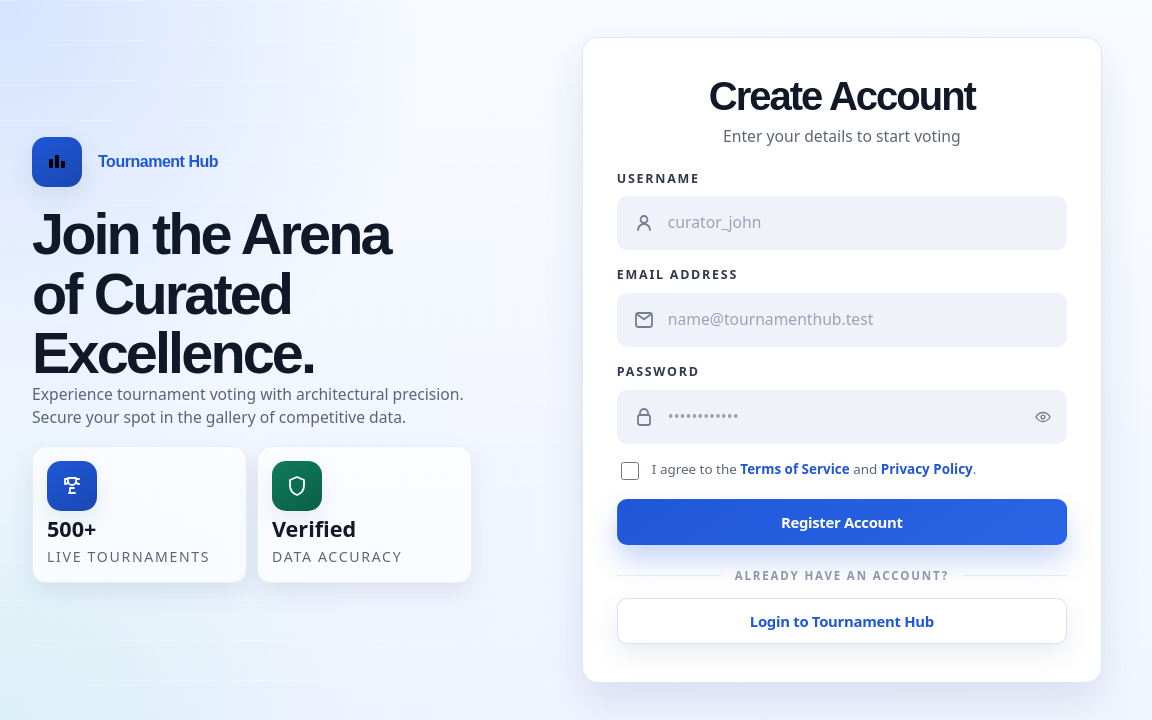
Test: RegisterPage › renders registration fields and validates them before submit
The image size is (1152, 720).
Expected: the heading "Create Account" is shown, [709, 74, 975, 118]
Expected: the field labelled "Email Address" is shown, [668, 308, 1040, 332]
Click the button "Register Account": (842, 522) [617, 499, 1067, 545]
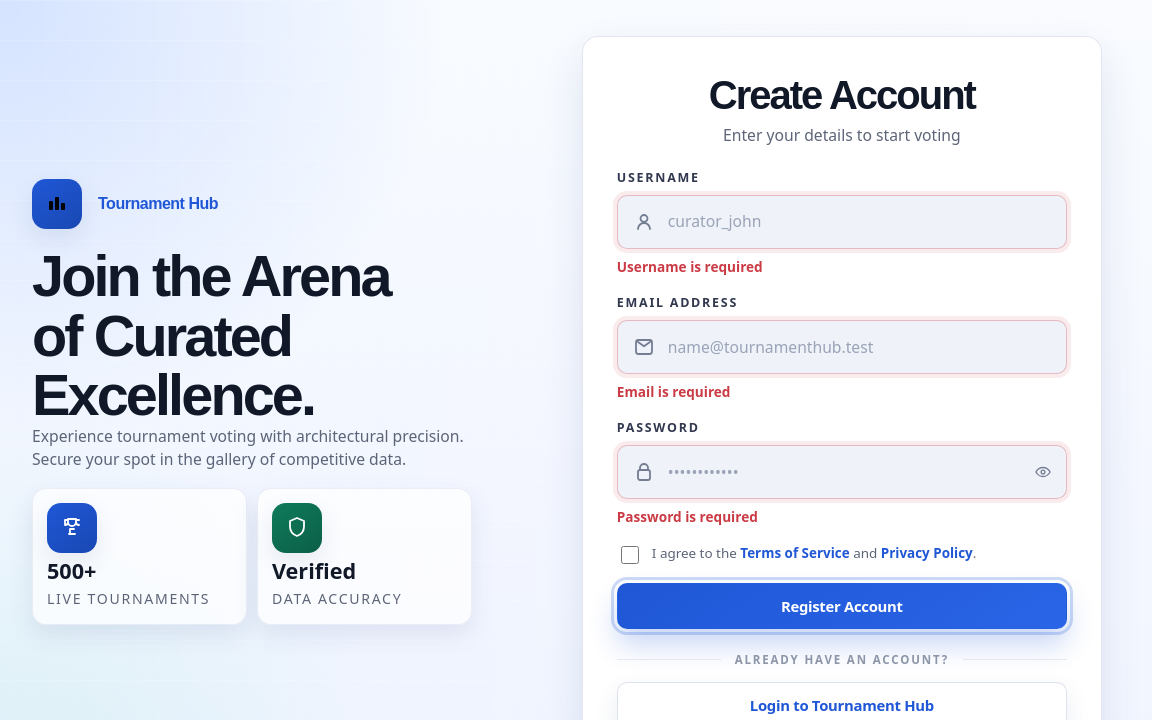
Now the text "Email is required" is shown, box [617, 382, 730, 401]
Now the text "Username is required" is shown, box [617, 257, 763, 276]
Now the text "Password is required" is shown, box [617, 507, 758, 526]
In the field labelled "Email Address": (854, 347) [668, 336, 1040, 359], type "bad-email"
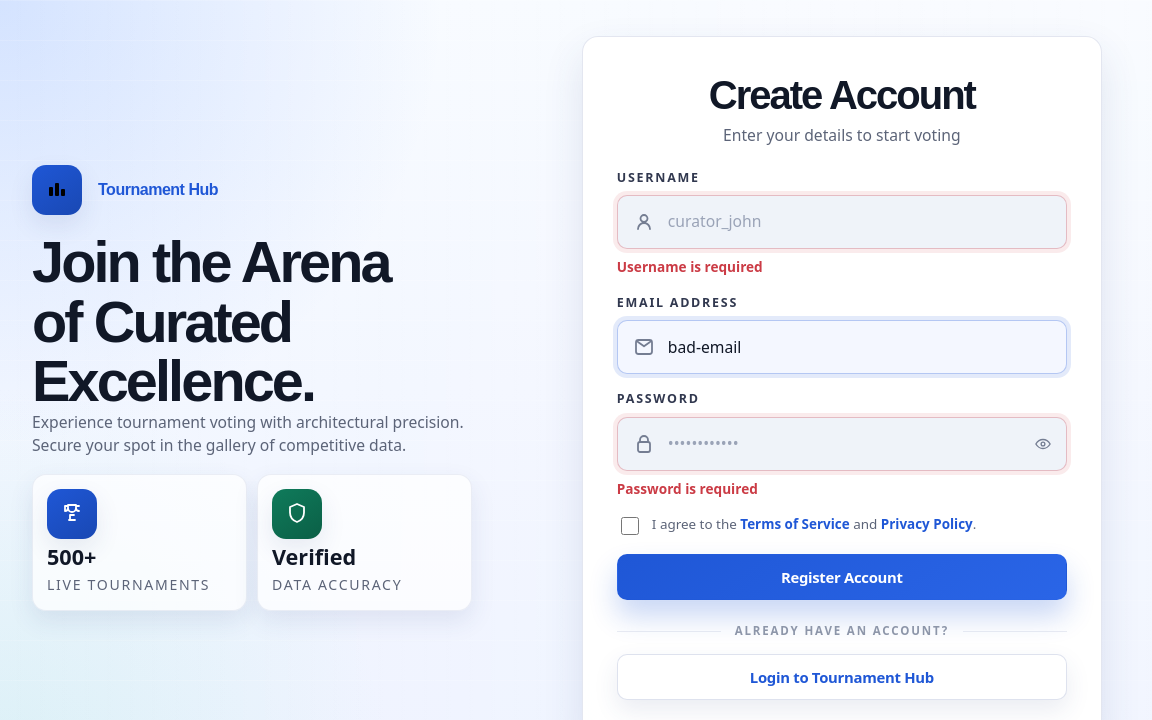
In the field labelled "Username": (854, 222) [668, 210, 1040, 234], type "ab"
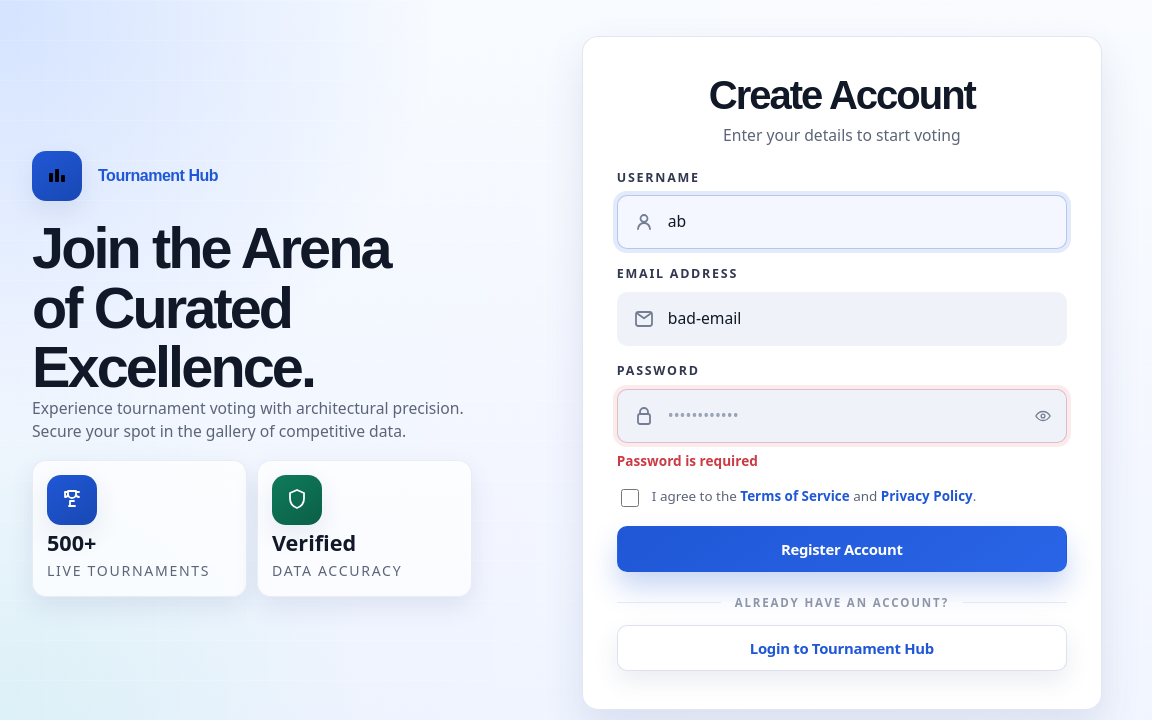
In the password field labelled "Password": (845, 416) [668, 404, 1022, 427], type "12345"
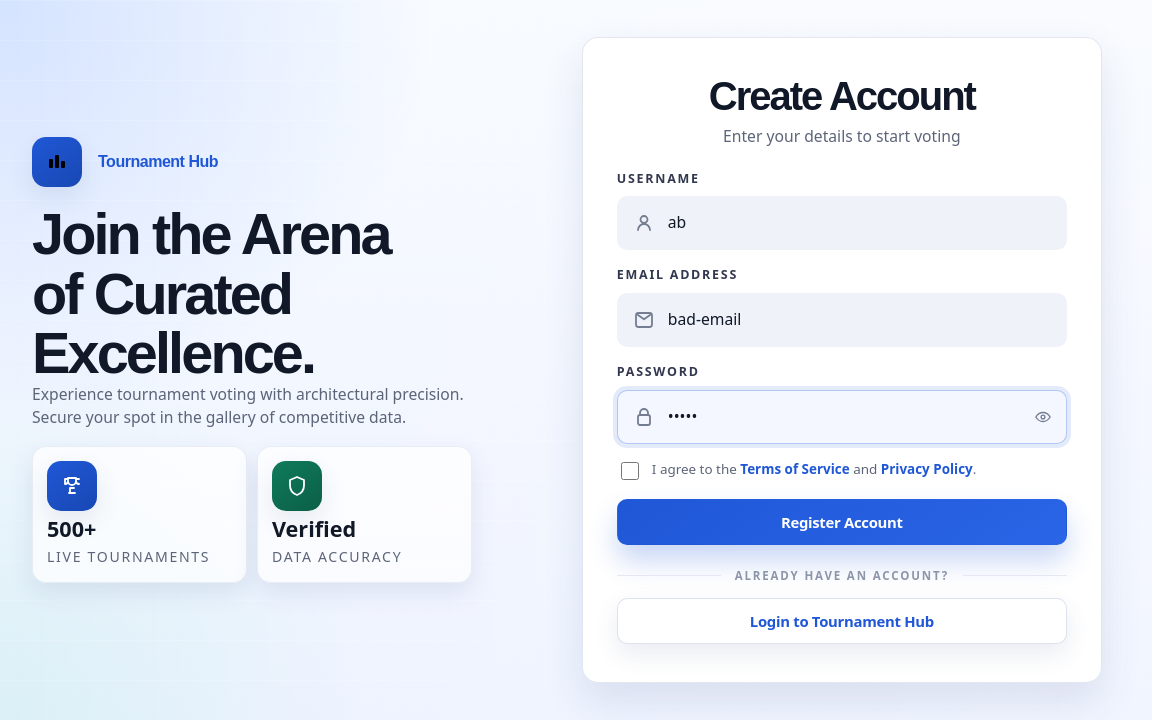
Click the button "Register Account": (842, 522) [617, 499, 1067, 545]
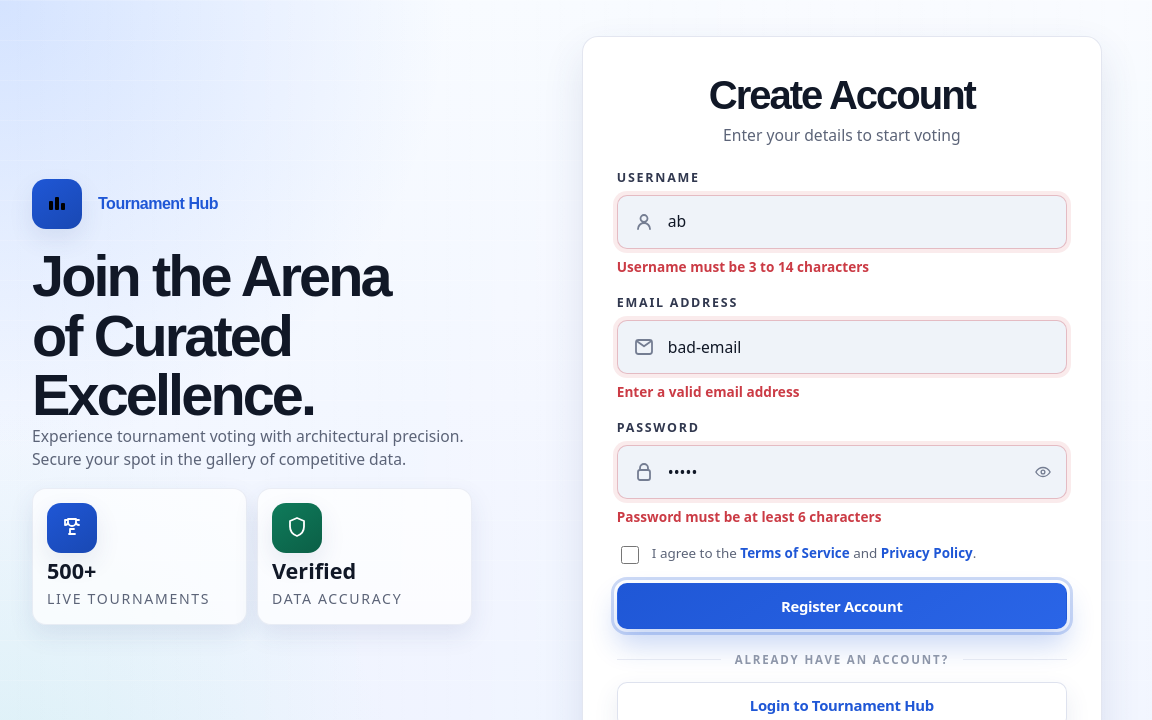
Now the text "Enter a valid email address" is shown, box [617, 382, 799, 401]
Now the text "Username must be 3 to 14 characters" is shown, box [617, 257, 869, 276]
Now the text "Password must be at least 6 characters" is shown, box [617, 507, 881, 526]
